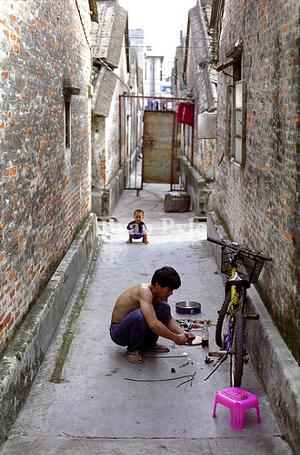person: (108, 263, 195, 366)
